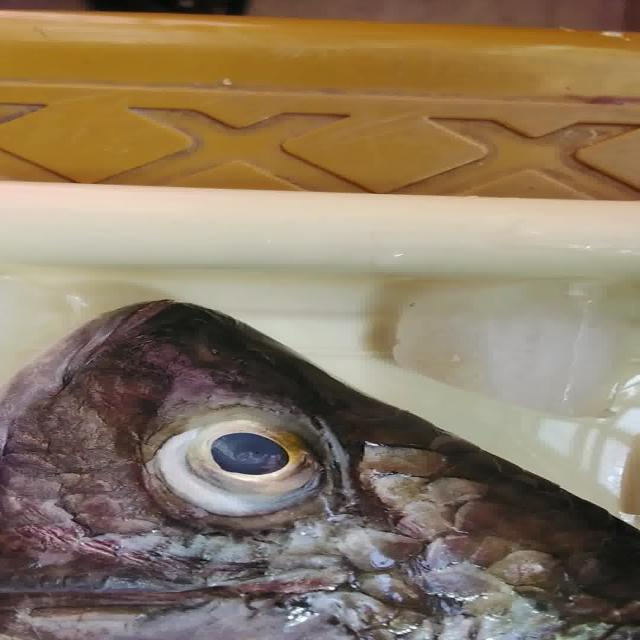Fresh: (119, 393, 373, 528)
